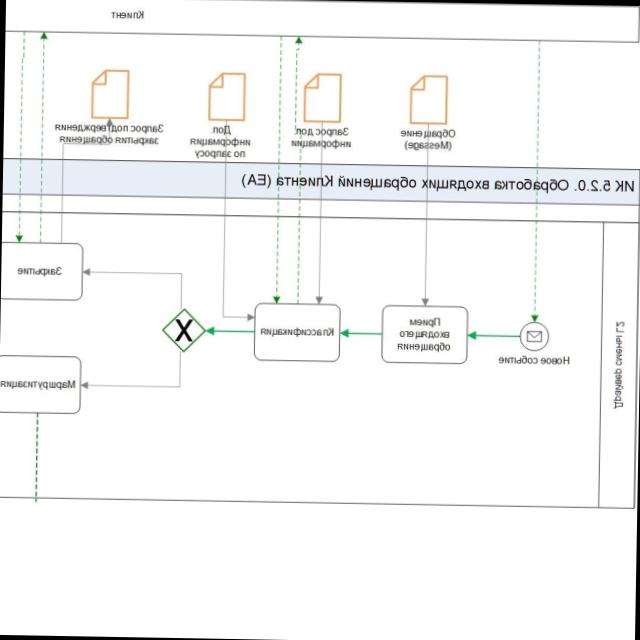arrow: (82, 266, 184, 310), (80, 348, 182, 392), (467, 330, 519, 339), (205, 328, 253, 337), (340, 330, 380, 339)
circle: (519, 322, 547, 350)
rectangle: (381, 303, 469, 364), (254, 302, 341, 361)
